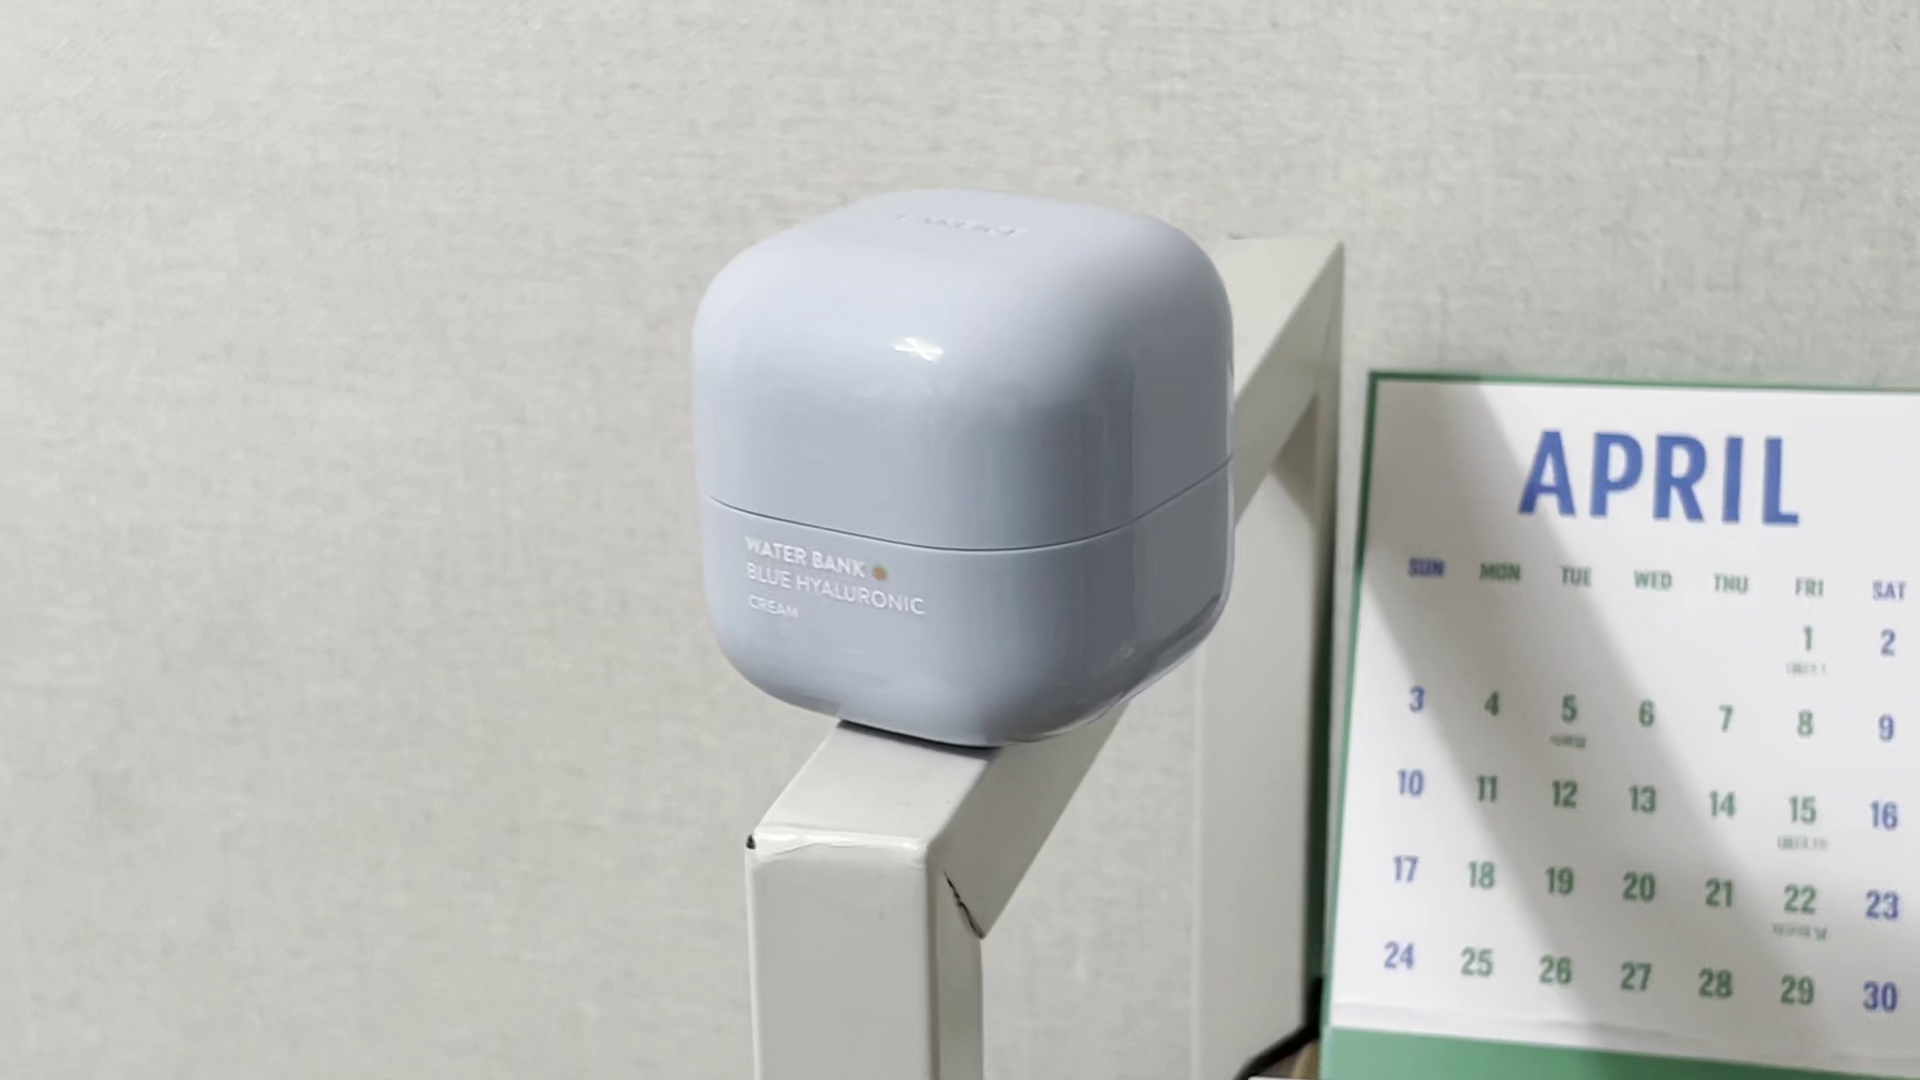cream: (691, 178, 1240, 745)
